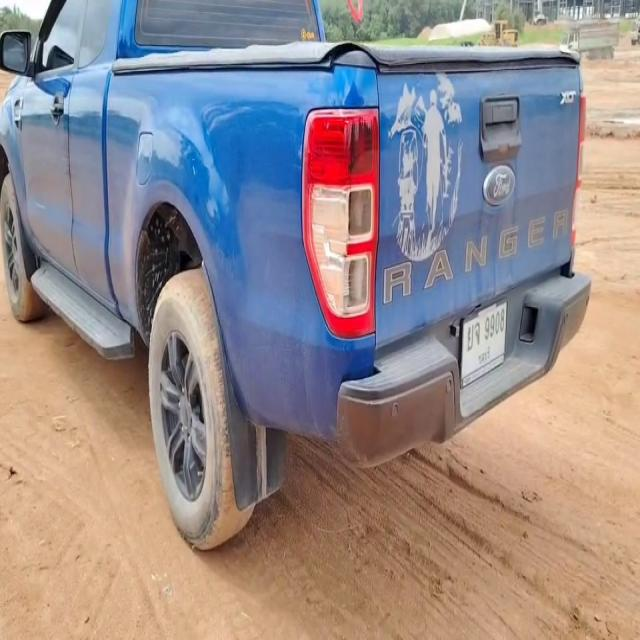Digit: (484, 309, 507, 343)
Licenseplate: (461, 298, 507, 389)
Provincename: (476, 349, 494, 366)
Thaichar: (465, 320, 481, 352)
